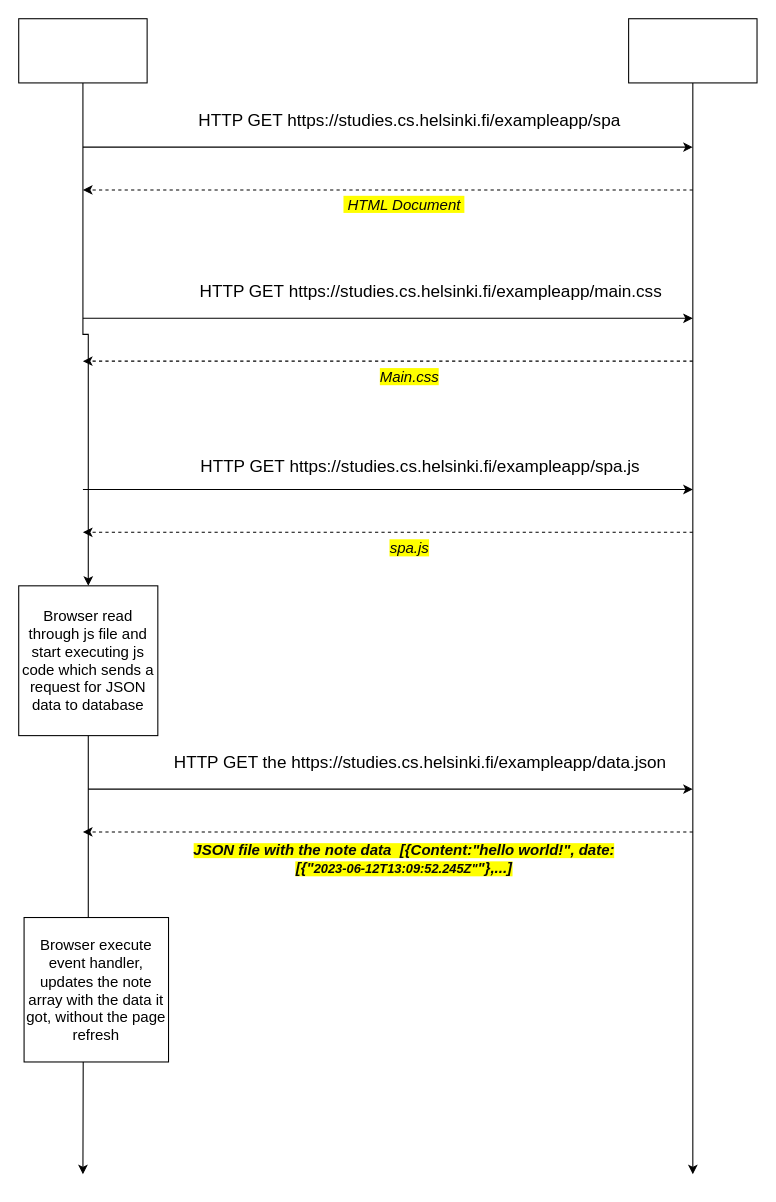
Image size: 776x1202. Some labels were removed from this diagram. The shapes that lost their labels are listed below. From the top down, each one's centre as x and y in pixels, then its label:
At pixel 82 50: "Browser".
At pixel 692 50: "Server".
